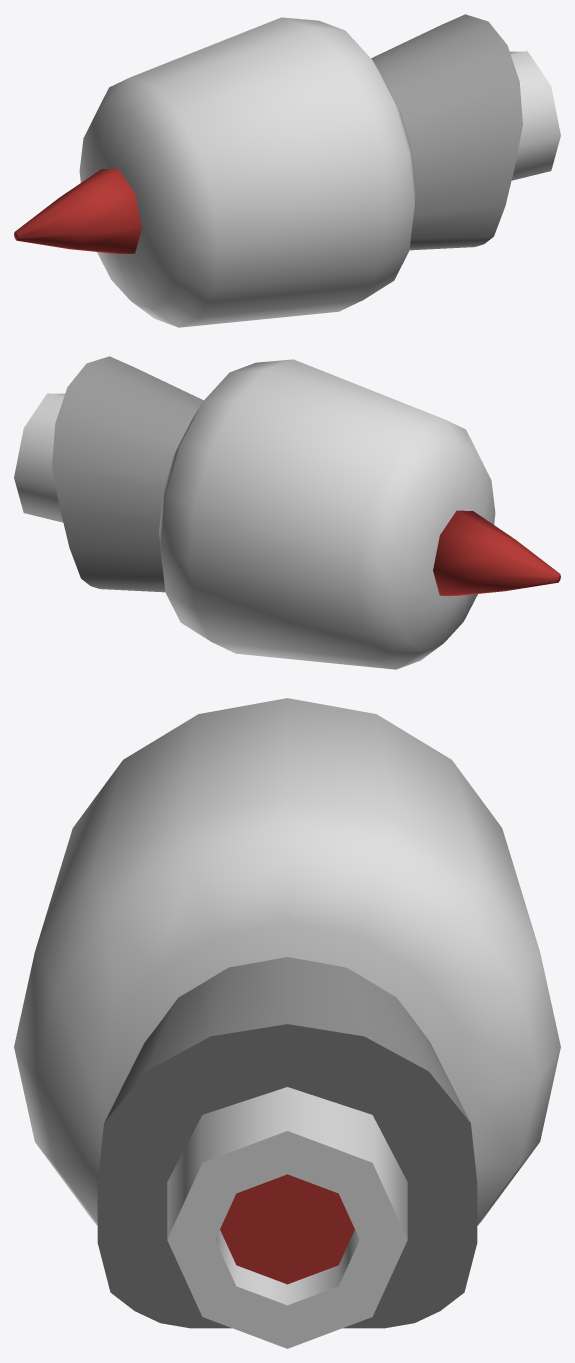
Rendered from SM_Leg_Blockout.fbx.
3 renders of one model, top to bottom at view 1: azimuth 30°, elevation 25°; view 2: azimuth 150°, elevation 25°; view 3: azimuth 270°, elevation 25°, orthographic. The views are drawn at different scales.
Parts seen in each view (by area): view 1: Player_Leg; view 2: Player_Leg; view 3: Player_Leg.
Part boxes in pixels (<box>): Player_Leg: <box>14,14,560,327</box>; Player_Leg: <box>14,356,560,669</box>; Player_Leg: <box>14,698,560,1348</box>.
Size of the model in its own units: 0.7463 by 0.3806 by 0.3806.
